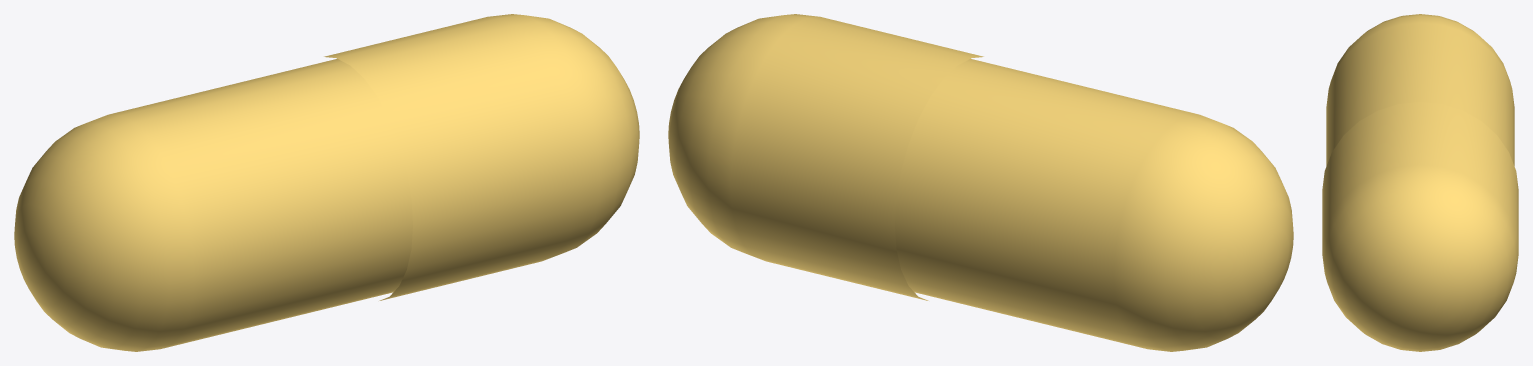
3 views of the same model, side by side, from view 1: azimuth 30°, elevation 25°; view 2: azimuth 150°, elevation 25°; view 3: azimuth 270°, elevation 25° (orthographic). The views are drawn at different scales.
Visible parts, largest first — view 1: body, cap; view 2: body, cap; view 3: cap, body.
Part boxes in pixels (x1=…): body: x1=14, y1=58, x2=412, y2=351; cap: x1=324, y1=14, x2=639, y2=300; body: x1=895, y1=58, x2=1293, y2=351; cap: x1=668, y1=14, x2=983, y2=300; cap: x1=1322, y1=102, x2=1518, y2=351; body: x1=1326, y1=14, x2=1514, y2=165.
Bounding box in the file's own units: 0.0233 × 0.00853 × 0.00853.
